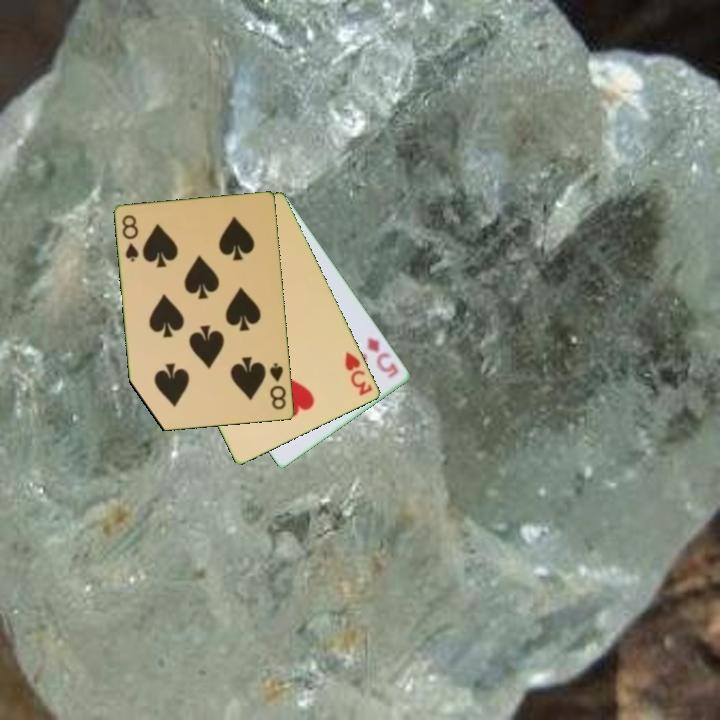3h: (342, 348, 375, 399)
5d: (364, 334, 402, 382)
8s: (266, 359, 289, 413), (119, 211, 142, 265)
